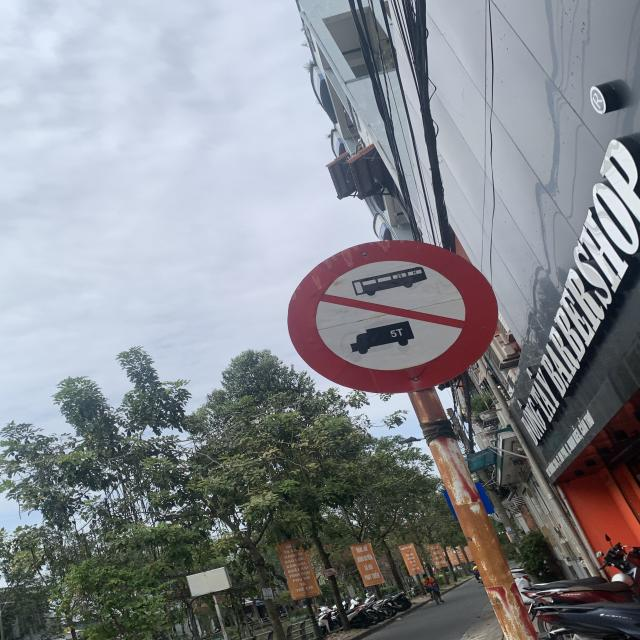Cam_XeTai_XeKhach: (286, 239, 501, 396)
